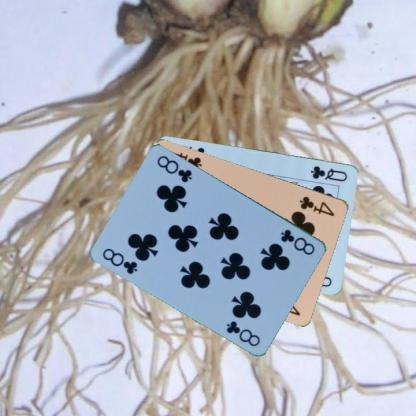4c: (297, 193, 336, 217)
8c: (100, 245, 139, 276), (278, 226, 317, 256)
Qc: (309, 163, 349, 183)
